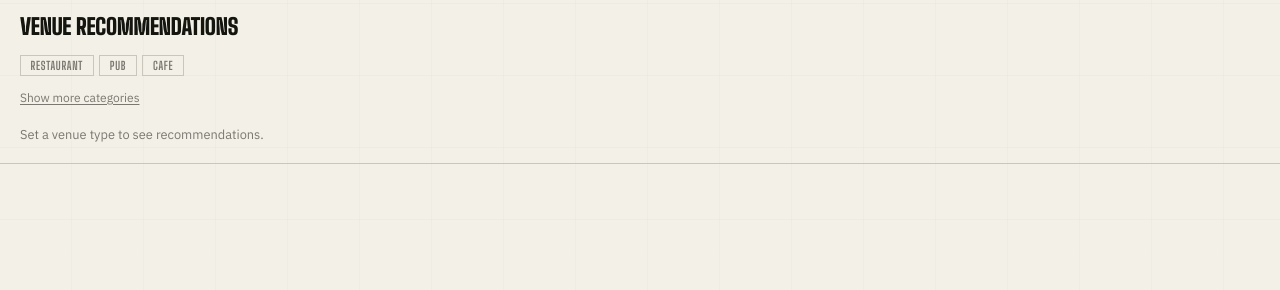
VenueList › merges and deduplicates venues from multiple types sorted by distance
Click the button "Pub": (118, 65) left=99, top=54, right=137, bottom=76
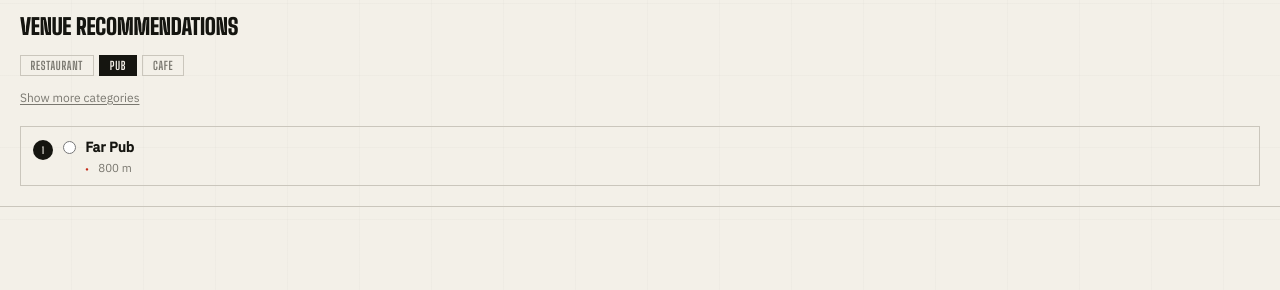
Check: the number of list items with test id "venue-card" is 1, box left=20, top=126, right=1260, bottom=186
Click the button "Cafe": (163, 65) left=142, top=54, right=184, bottom=76
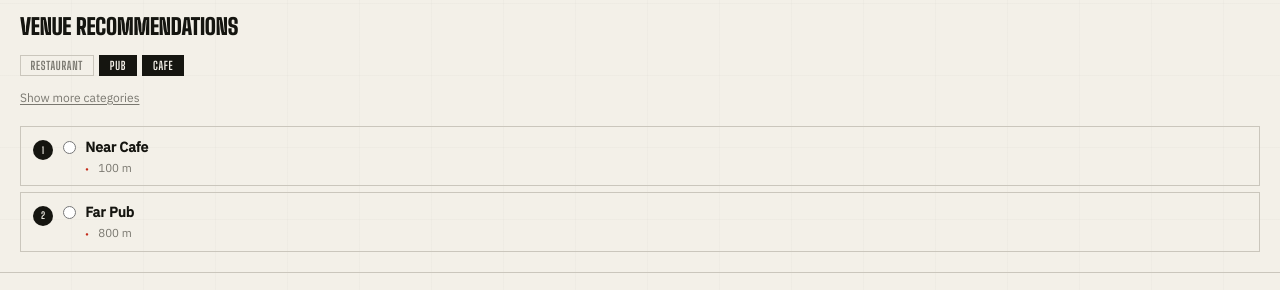
Check: the list item with test id "venue-card" shows "Far Pub", box left=85, top=203, right=134, bottom=221
Check: the number of list items with test id "venue-card" is 2, box left=20, top=126, right=1260, bottom=186; left=20, top=192, right=1260, bottom=252
Check: the list item with test id "venue-card" shows "Near Cafe", box left=85, top=138, right=148, bottom=156
